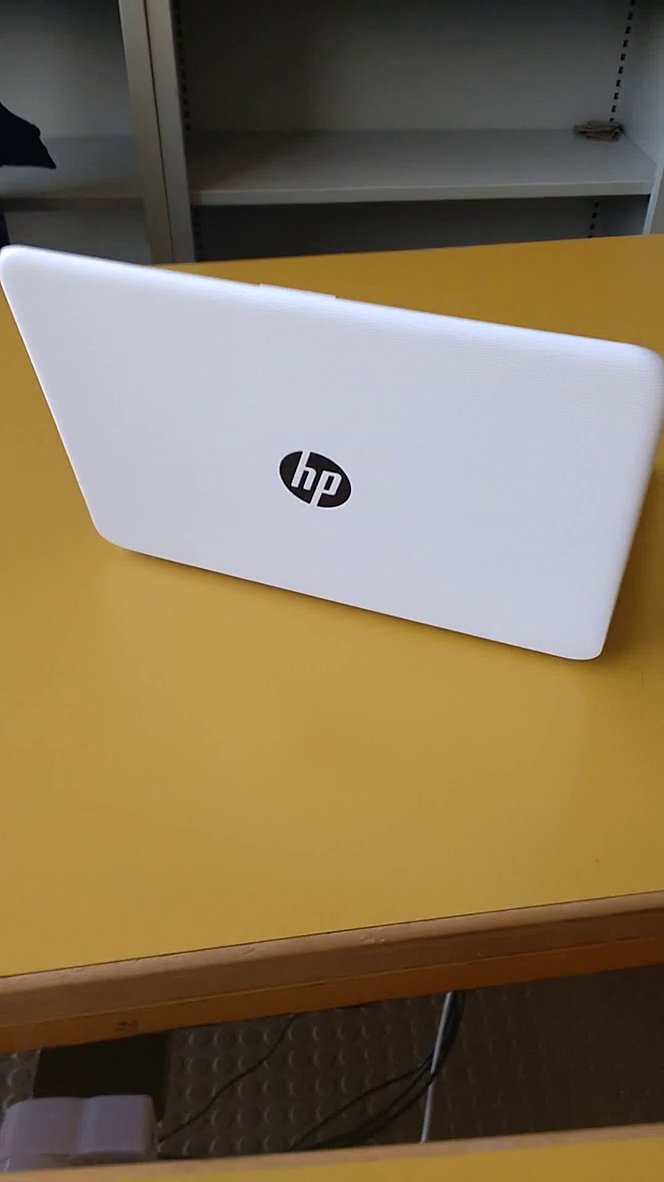laptop: (3, 228, 664, 676)
